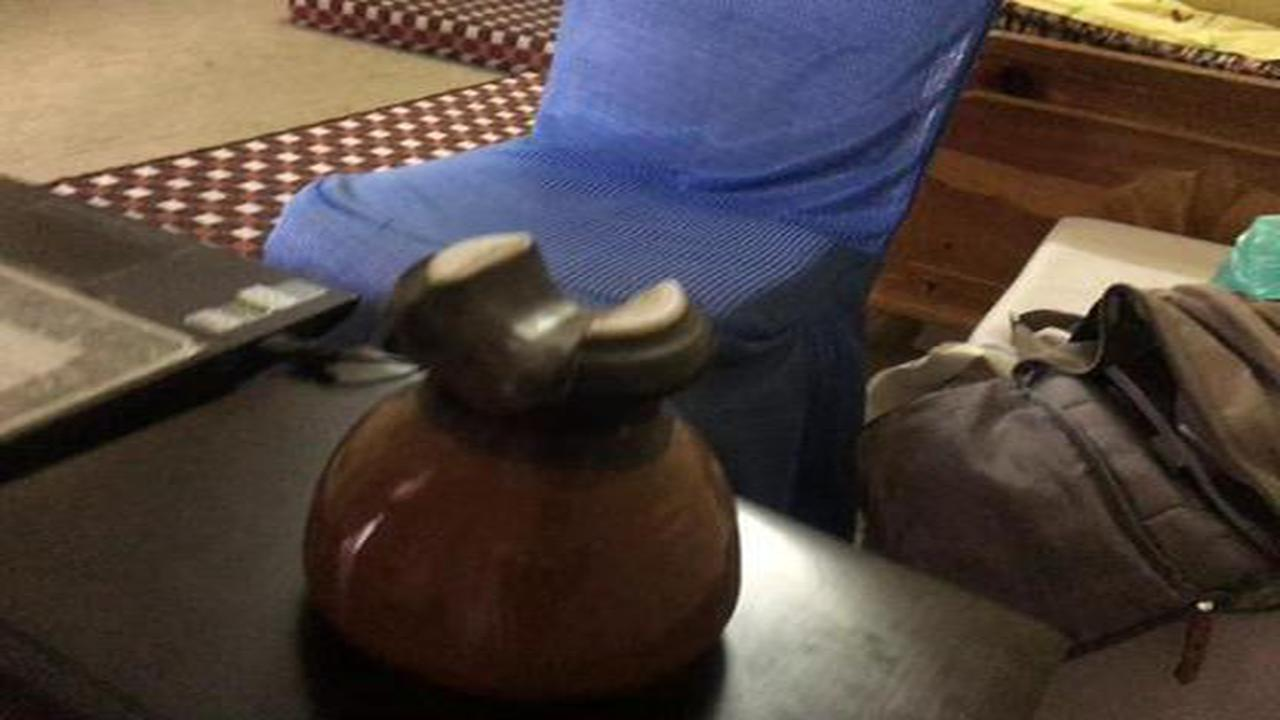insulator_pin: (284, 220, 754, 703)
